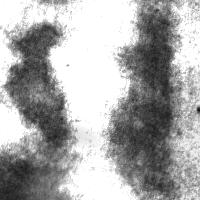patches: (106, 8, 177, 196), (0, 121, 128, 200), (125, 69, 200, 200), (4, 18, 73, 146), (31, 147, 135, 200), (1, 149, 74, 200)
